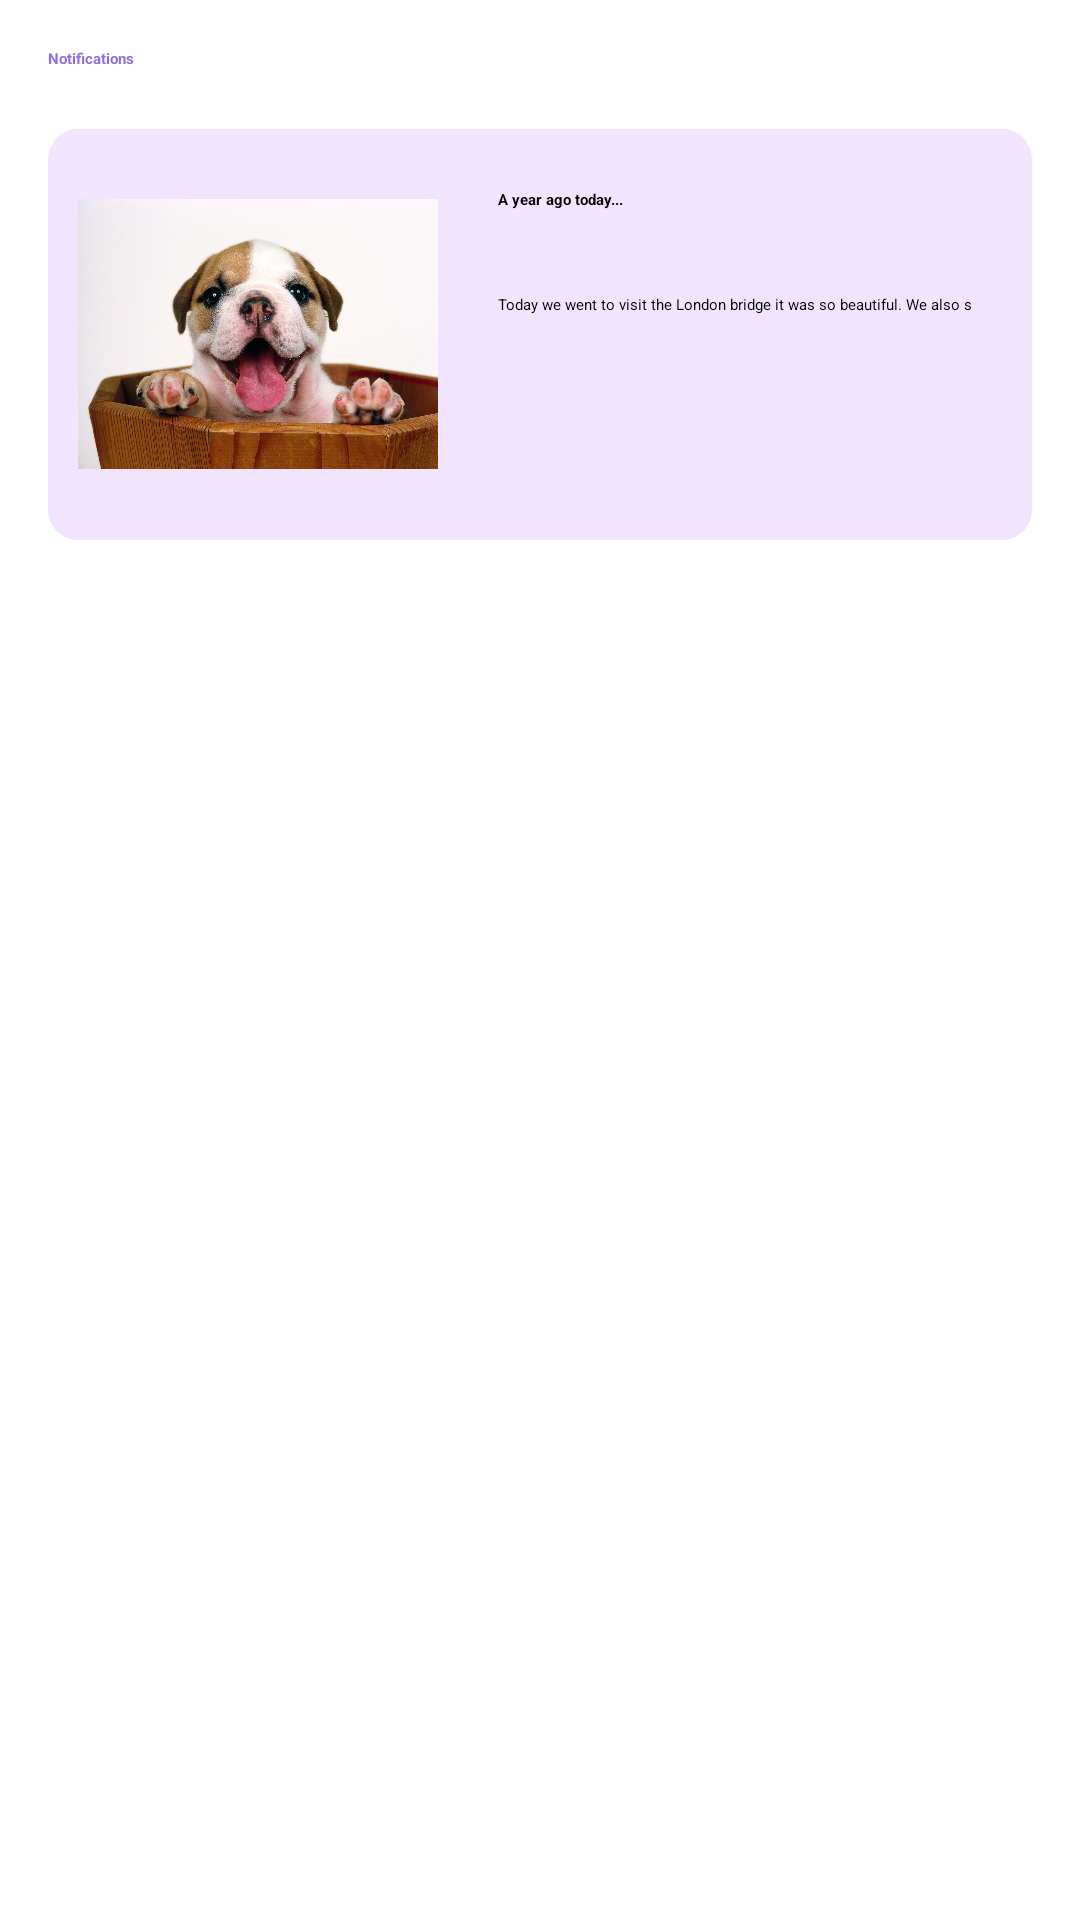

Point at icon controls on the screen. Image size 1080w x 1920h, points as point (x, y).
photo: point (258, 353)
